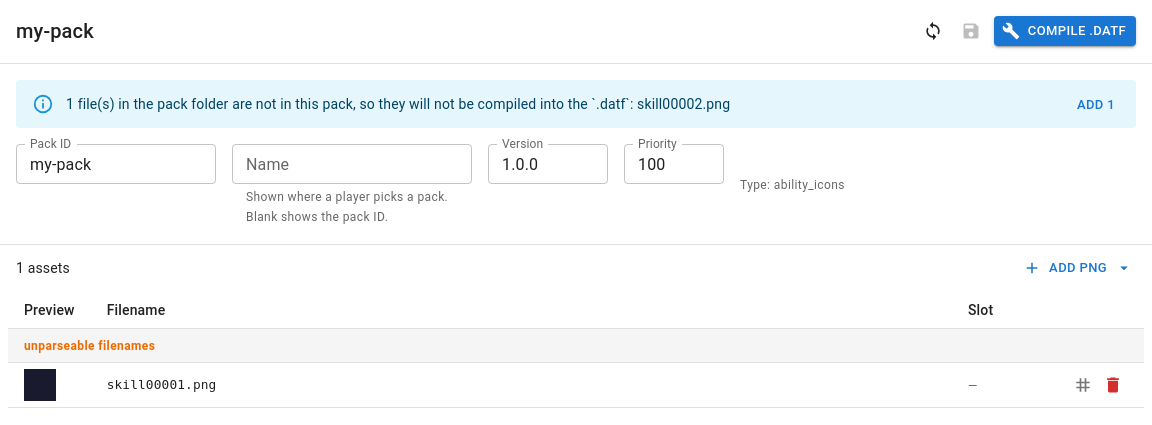
Test: PackEditor - whether the .datf is up to date › says the .datf is behind as soon as an edit is made
The width and height of the screenshot is (1152, 425).
Click the button "Add 1": click(1096, 105) [1064,90,1128,121]
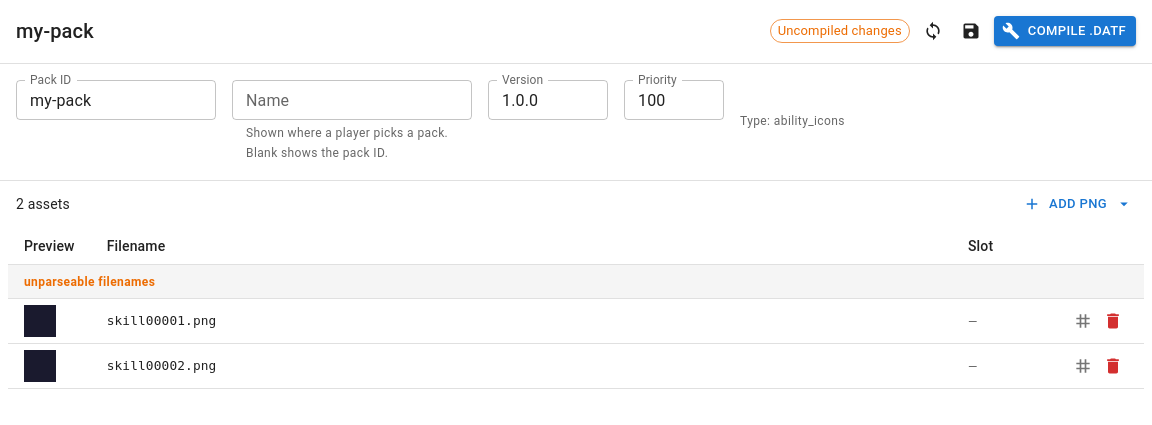
Now the text "Uncompiled changes" is shown, box [771,21,909,41]
